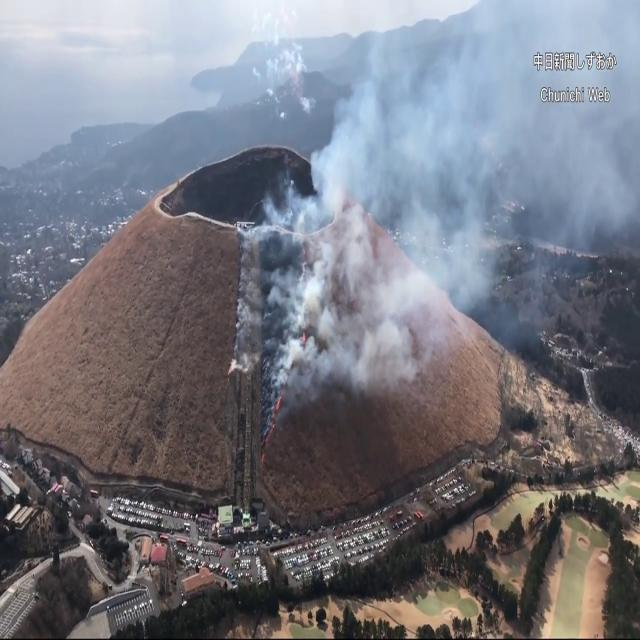Smoke: (230, 0, 640, 401)
